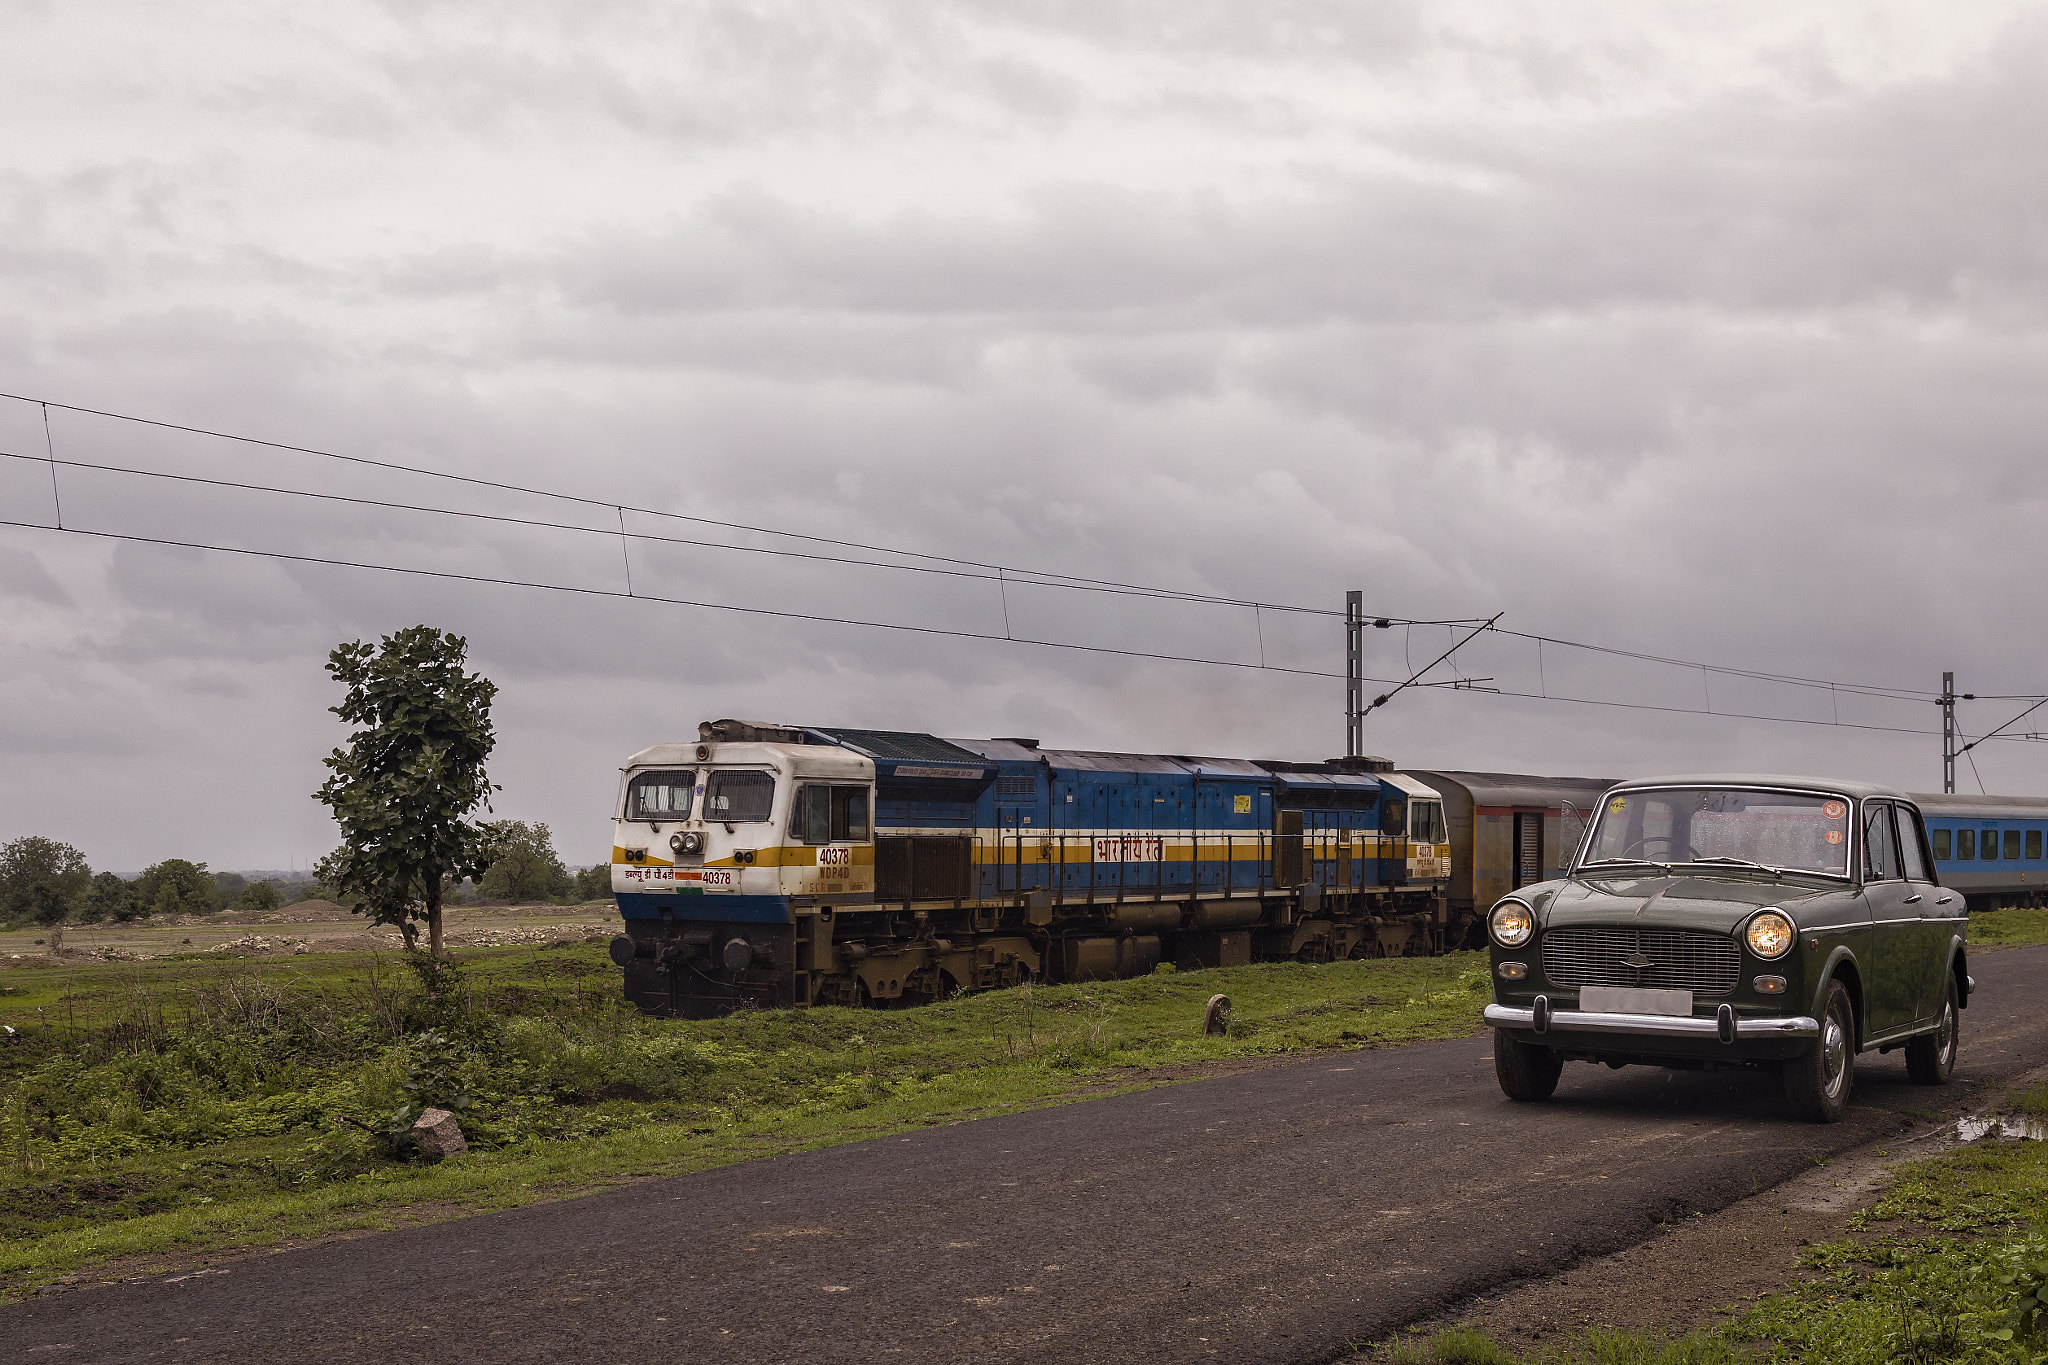Car: (1472, 746, 2021, 1149)
